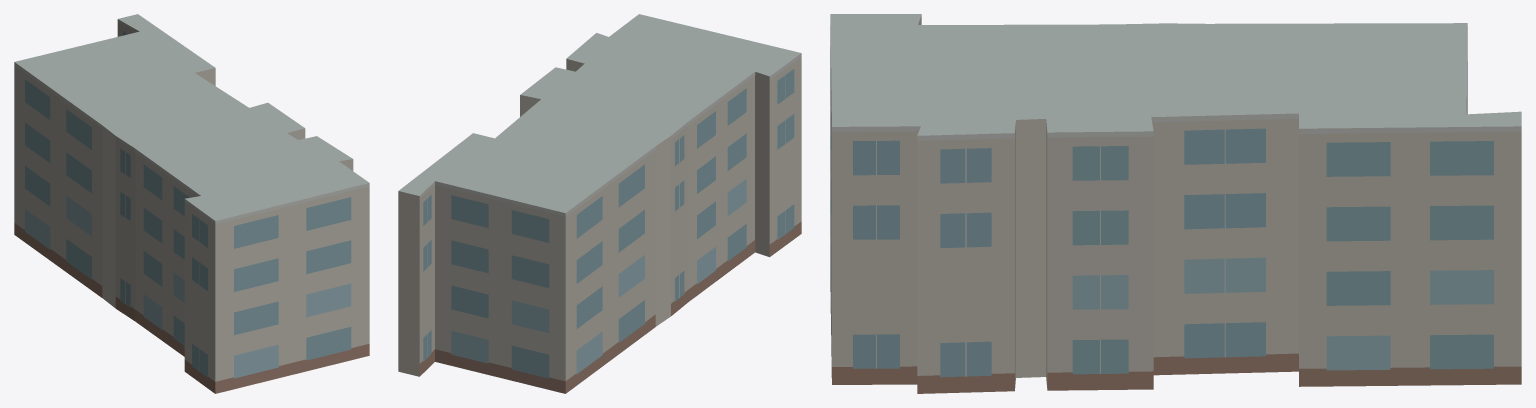
Rendered from survey-upis-32754193.glb.
3 renders of one model, left to right at view 1: azimuth 30°, elevation 25°; view 2: azimuth 150°, elevation 25°; view 3: azimuth 270°, elevation 25°, orthographic. The views are drawn at different scales.
Visible parts, largest first — view 1: survey-upis-32754193.tmp; view 2: survey-upis-32754193.tmp; view 3: survey-upis-32754193.tmp.
Boxes of the visible parts, box(x1,y1,x2,y2) form: survey-upis-32754193.tmp: box(14, 14, 369, 393); survey-upis-32754193.tmp: box(398, 14, 801, 393); survey-upis-32754193.tmp: box(830, 14, 1521, 393).
Size of the model in its own units: 12.46 by 12.3 by 29.87.
